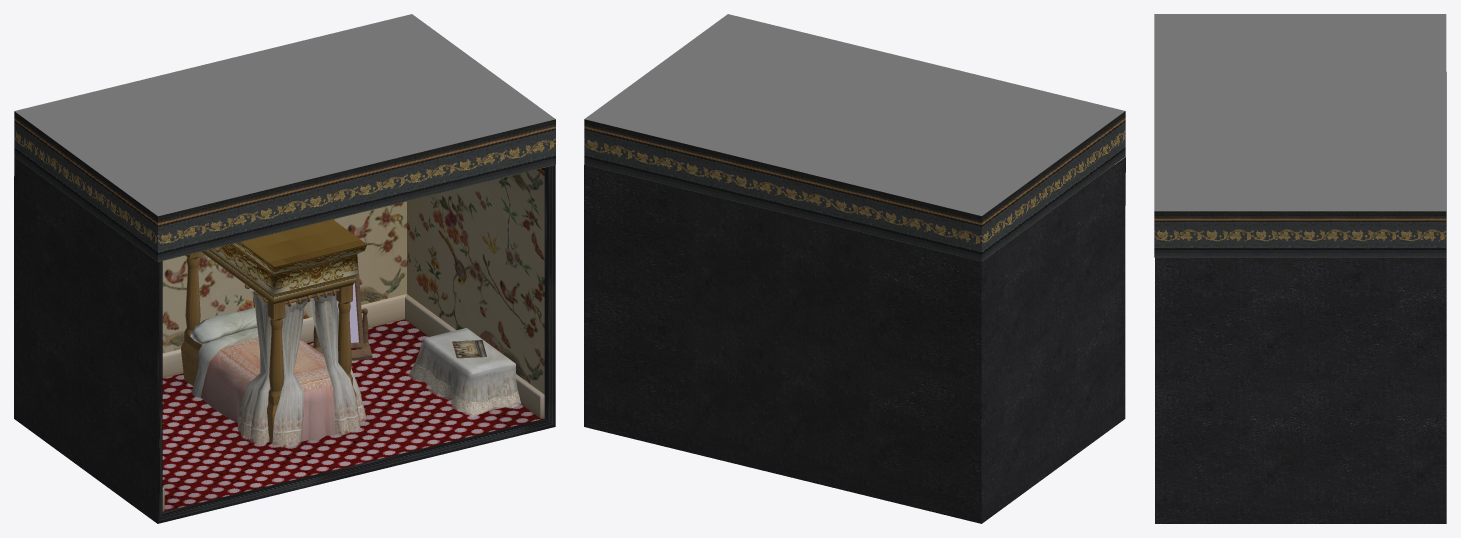
The picture shows the model from 3 angles, left to right: view 1: azimuth 30°, elevation 25°; view 2: azimuth 150°, elevation 25°; view 3: azimuth 270°, elevation 25°; orthographic projection.
Visible parts, largest first — view 1: polySurface1, polySurface3, polySurface5, polySurface4, curtains, polySurface28, polySurface26, polySurface30, polySurface32, curtains1, polySurface16, polySurface27 (+5 smaller); view 2: polySurface3, polySurface1; view 3: polySurface3, polySurface1.
Part boxes in pixels (x1,y1,x2,y2): polySurface1: (14, 14, 555, 261); polySurface3: (14, 157, 555, 523); polySurface5: (143, 168, 544, 511); polySurface4: (162, 319, 543, 511); curtains: (238, 288, 366, 447); polySurface28: (202, 219, 366, 303); polySurface26: (191, 328, 346, 444); polySurface30: (412, 328, 517, 414); polySurface32: (408, 363, 520, 416); curtains1: (237, 403, 366, 447); polySurface16: (268, 300, 285, 405); polySurface27: (190, 307, 257, 344); polySurface3: (584, 157, 1125, 523); polySurface1: (584, 14, 1125, 261); polySurface3: (1155, 72, 1446, 523); polySurface1: (1154, 14, 1446, 257).
Bounding box in the file's own units: 1.67 × 1.23 × 1.04.
Materials: 21 (19 with a texture image).
